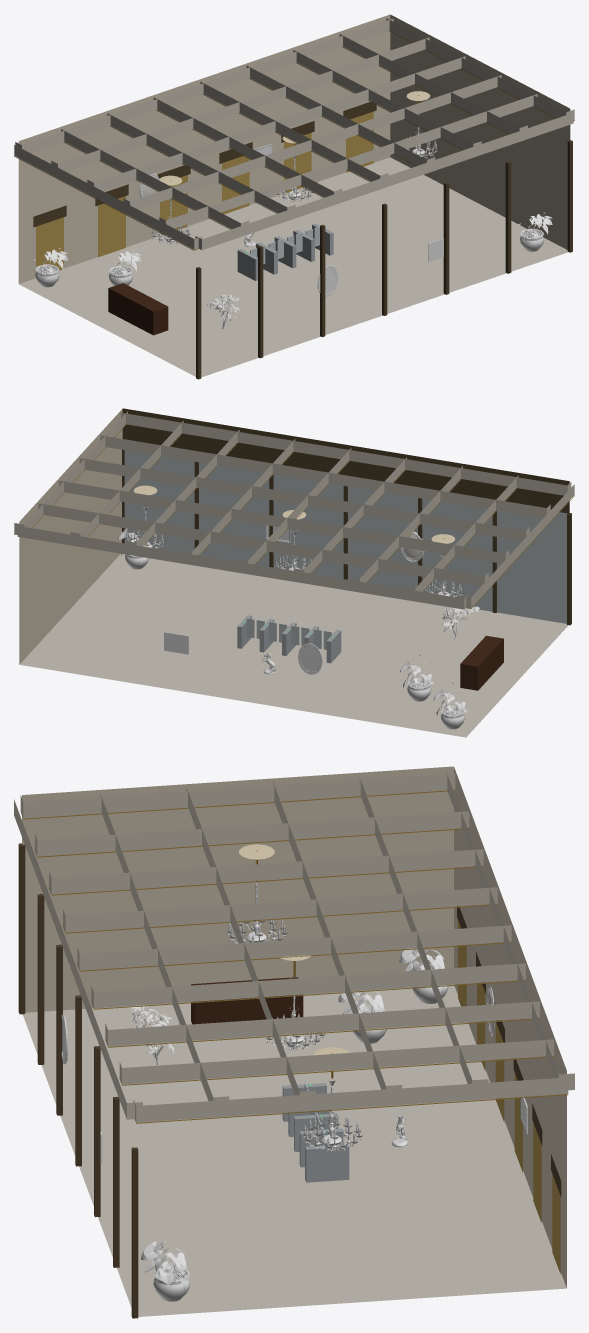
Rendered from mills_int.glb.
3 views of the same model, one above another, from view 1: azimuth 30°, elevation 25°; view 2: azimuth 150°, elevation 25°; view 3: azimuth 270°, elevation 25° (orthographic). The views are drawn at different scales.
Parts seen in each view (by area): view 1: I_x_marble_white, I_x_marble_cream, I_x_plaster, I_x_bronze, I_x_brass, I_x_veneer, I_d_metal, I_x_gold, I_p_potted_plant_02__0, I_p_potted_plant_02__1, I_p_Chandelier_03__0, I_glassI (+1 smaller); view 2: I_x_marble_white, I_x_plaster, I_glassI, I_x_marble_cream, I_x_bronze, I_x_veneer, I_d_metal, I_p_potted_plant_02__0, I_p_potted_plant_02__1, I_p_hanging_picture_frame_03__0, I_p_Chandelier_03__0, I_x_gold (+2 smaller); view 3: I_x_marble_white, I_x_plaster, I_x_marble_cream, I_x_bronze, I_x_gold, I_d_metal, I_x_brass, I_x_veneer, I_p_potted_plant_02__1, I_p_Chandelier_03__0, I_p_potted_plant_02__0, I_lampI.
Part boxes in pixels (x1,y1,x2,y2): I_x_marble_white: (19, 157, 568, 377); I_x_marble_cream: (18, 14, 570, 283); I_x_plaster: (14, 18, 574, 249); I_x_bronze: (33, 101, 572, 379); I_x_brass: (36, 111, 373, 272); I_x_veneer: (108, 283, 168, 335); I_d_metal: (237, 223, 333, 280); I_x_gold: (14, 31, 574, 250); I_p_potted_plant_02__0: (35, 228, 544, 287); I_p_potted_plant_02__1: (32, 212, 552, 278); I_p_Chandelier_03__0: (151, 113, 437, 244); I_glassI: (250, 226, 319, 264); I_x_marble_white: (19, 554, 568, 737); I_x_plaster: (14, 411, 574, 609); I_glassI: (124, 450, 567, 649); I_x_marble_cream: (19, 409, 122, 664); I_x_bronze: (122, 408, 571, 625); I_x_veneer: (460, 635, 503, 690); I_d_metal: (237, 615, 341, 663); I_p_potted_plant_02__0: (125, 554, 464, 729); I_p_potted_plant_02__1: (117, 528, 467, 715); I_p_hanging_picture_frame_03__0: (298, 531, 424, 674); I_p_Chandelier_03__0: (127, 507, 462, 596); I_x_gold: (14, 424, 574, 608); I_x_marble_white: (22, 984, 566, 1316); I_x_plaster: (14, 771, 574, 1122); I_x_marble_cream: (22, 766, 566, 1287); I_x_bronze: (18, 843, 561, 1318); I_x_gold: (20, 790, 568, 1123); I_d_metal: (282, 1083, 349, 1182); I_x_brass: (458, 920, 560, 1273); I_x_veneer: (191, 977, 303, 1024); I_p_potted_plant_02__1: (141, 948, 446, 1290); I_p_Chandelier_03__0: (227, 880, 361, 1152); I_p_potted_plant_02__0: (153, 969, 448, 1301); I_lampI: (239, 844, 349, 1131).
Size of the model in its own units: 22.1 by 6.6 by 15.4.
